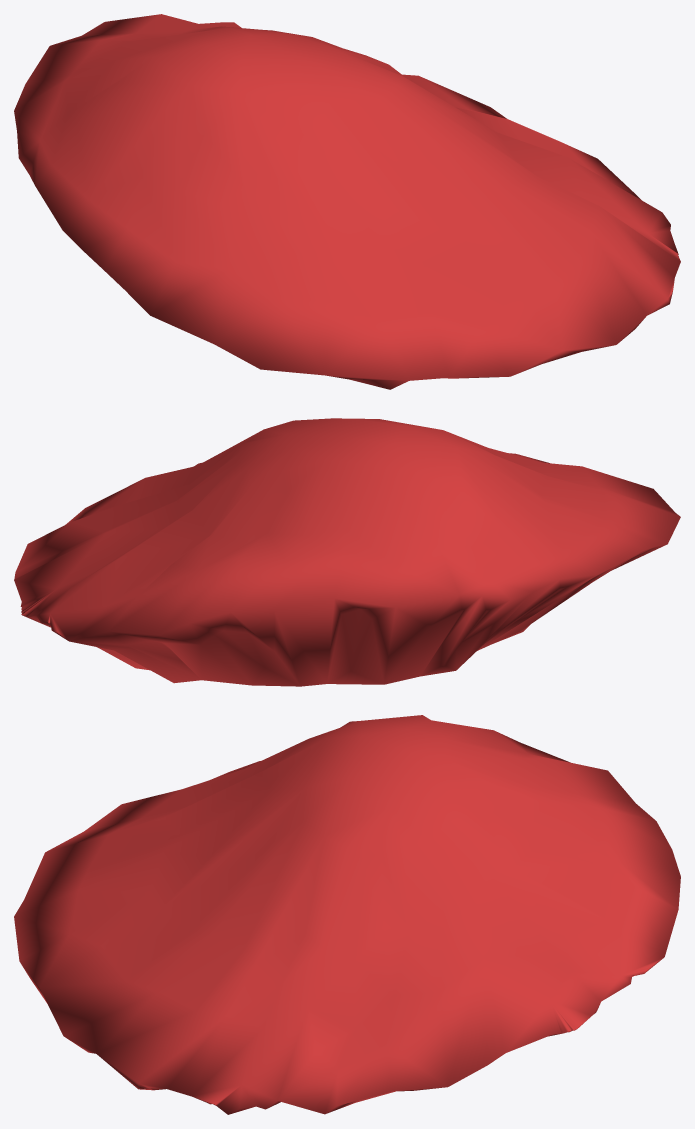
File: SM_mushroom_red_01.fbx
The picture shows the model from 3 angles, top to bottom: view 1: azimuth 30°, elevation 25°; view 2: azimuth 150°, elevation 25°; view 3: azimuth 270°, elevation 25°; orthographic projection. The views are drawn at different scales.
Visible parts, largest first — view 1: mushroom_red_01; view 2: mushroom_red_01; view 3: mushroom_red_01.
Boxes of the visible parts, x1,y1,x2,y2 form: mushroom_red_01: (14, 14, 680, 389); mushroom_red_01: (14, 418, 680, 686); mushroom_red_01: (14, 715, 680, 1114).
Bounding box in the file's own units: 429 × 191 × 462.
